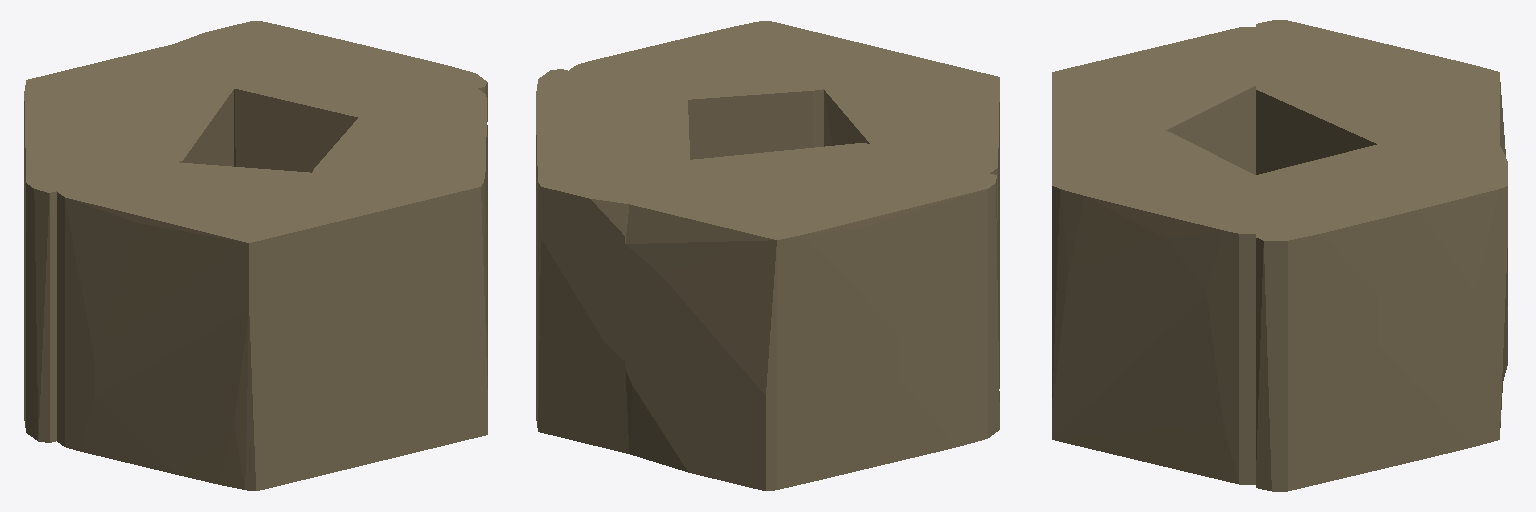
robot.urdf — Nut:
<?xml version="1.0"?>
<robot name="Nut">
  <link name="base_link">
    <visual>
      <origin xyz="0 0 0" rpy="0 0 0" />
      <geometry>
        <mesh filename="Nut_decimated.obj" />      
      </geometry>
      <material name="tan">
        <color rgba="0.55 0.5 0.4 1" />
      </material>
    </visual>
    <collision>
      <origin xyz="0 0 0" rpy="0 0 0" />
      <geometry>
        <mesh filename="Nut_decimated.obj" />
      </geometry>
    </collision>
  </link>
</robot>

--- Facts derived from the render (not from the file) ---
Views: 3 orthographic renders of the robot side by side, from view 1: azimuth 30°, elevation 25°; view 2: azimuth 150°, elevation 25°; view 3: azimuth 270°, elevation 25°.
Robot: Nut — 1 links, 0 joints (none); root link base_link; default pose: every joint at zero.
Links seen in each view (by area): view 1: base_link; view 2: base_link; view 3: base_link.
Link boxes in pixels (<box>): base_link: <box>24,21,487,490</box>; base_link: <box>536,21,999,490</box>; base_link: <box>1052,20,1507,491</box>.
Bounding box of the posed robot: 36.46 × 31.9 × 19.37 m (x, y, z).
1 mesh visuals loaded from 1 distinct referenced files (1 OBJ).
